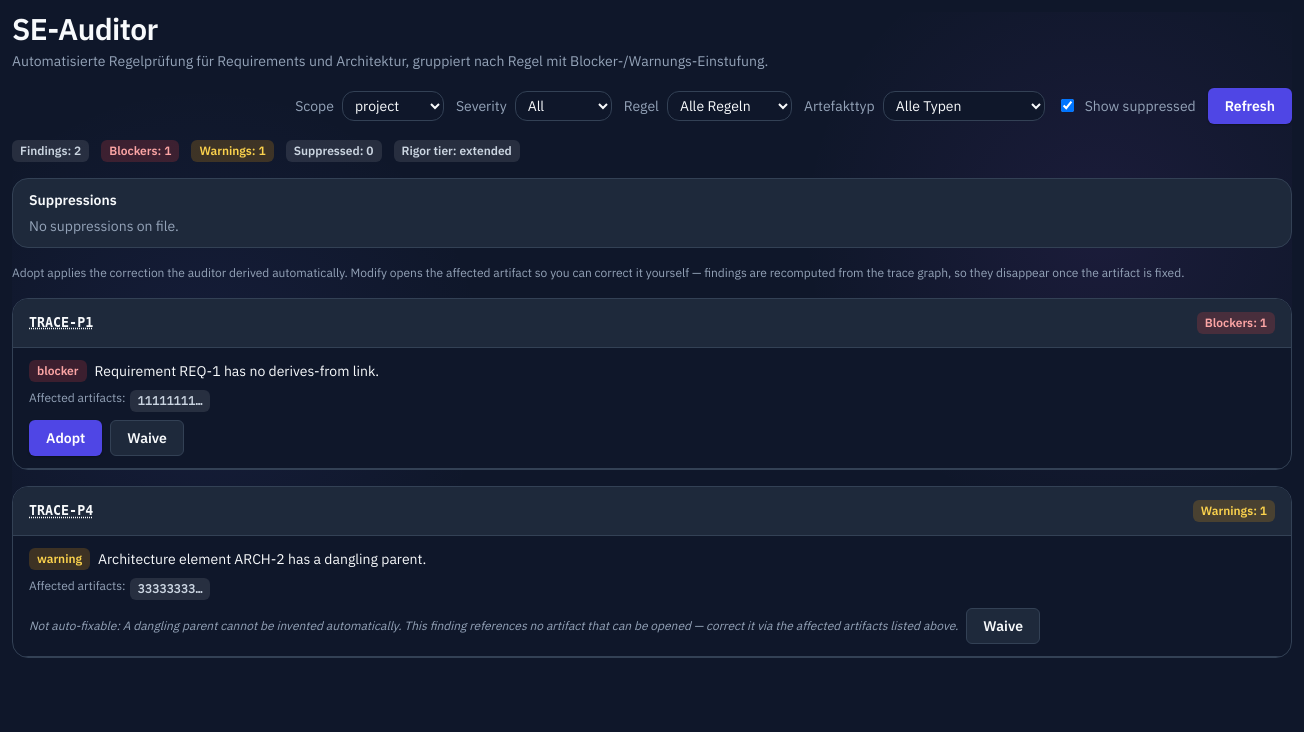
Test: AuditDashboard (SysEng 2.0 Phase 3) › re-runs the audit with scope=document and the selected artifact once a scope artifact is available
expect the list item with test id "audit-finding-0" is shown: met, box [13,348,1291,469]
Select "document" in the dropdown with test id "audit-scope-select" at x=393, y=106, box [342,91,444,121]
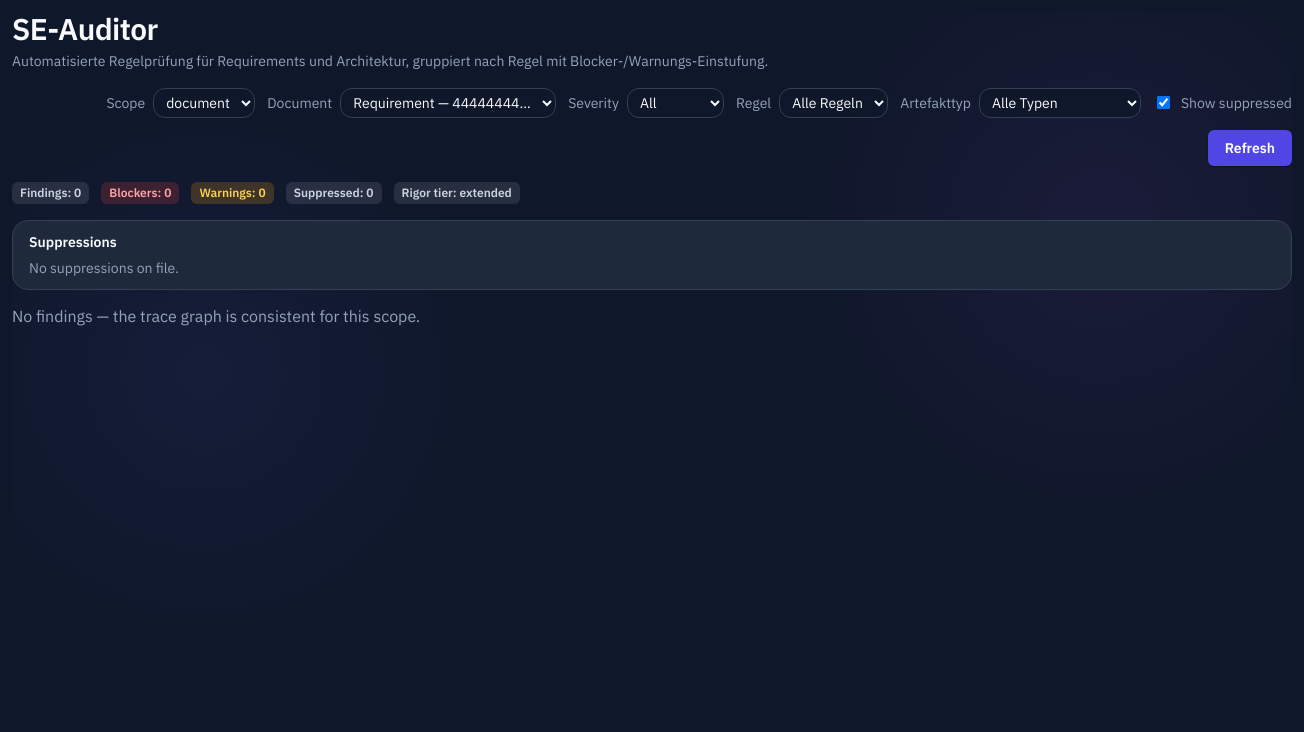
expect the dropdown with test id "audit-scope-artifact-select" is shown: met, box [340,88,556,118]
expect the text "No findings — the trace graph is consistent for this scope." is shown: met, box [12,306,420,326]
